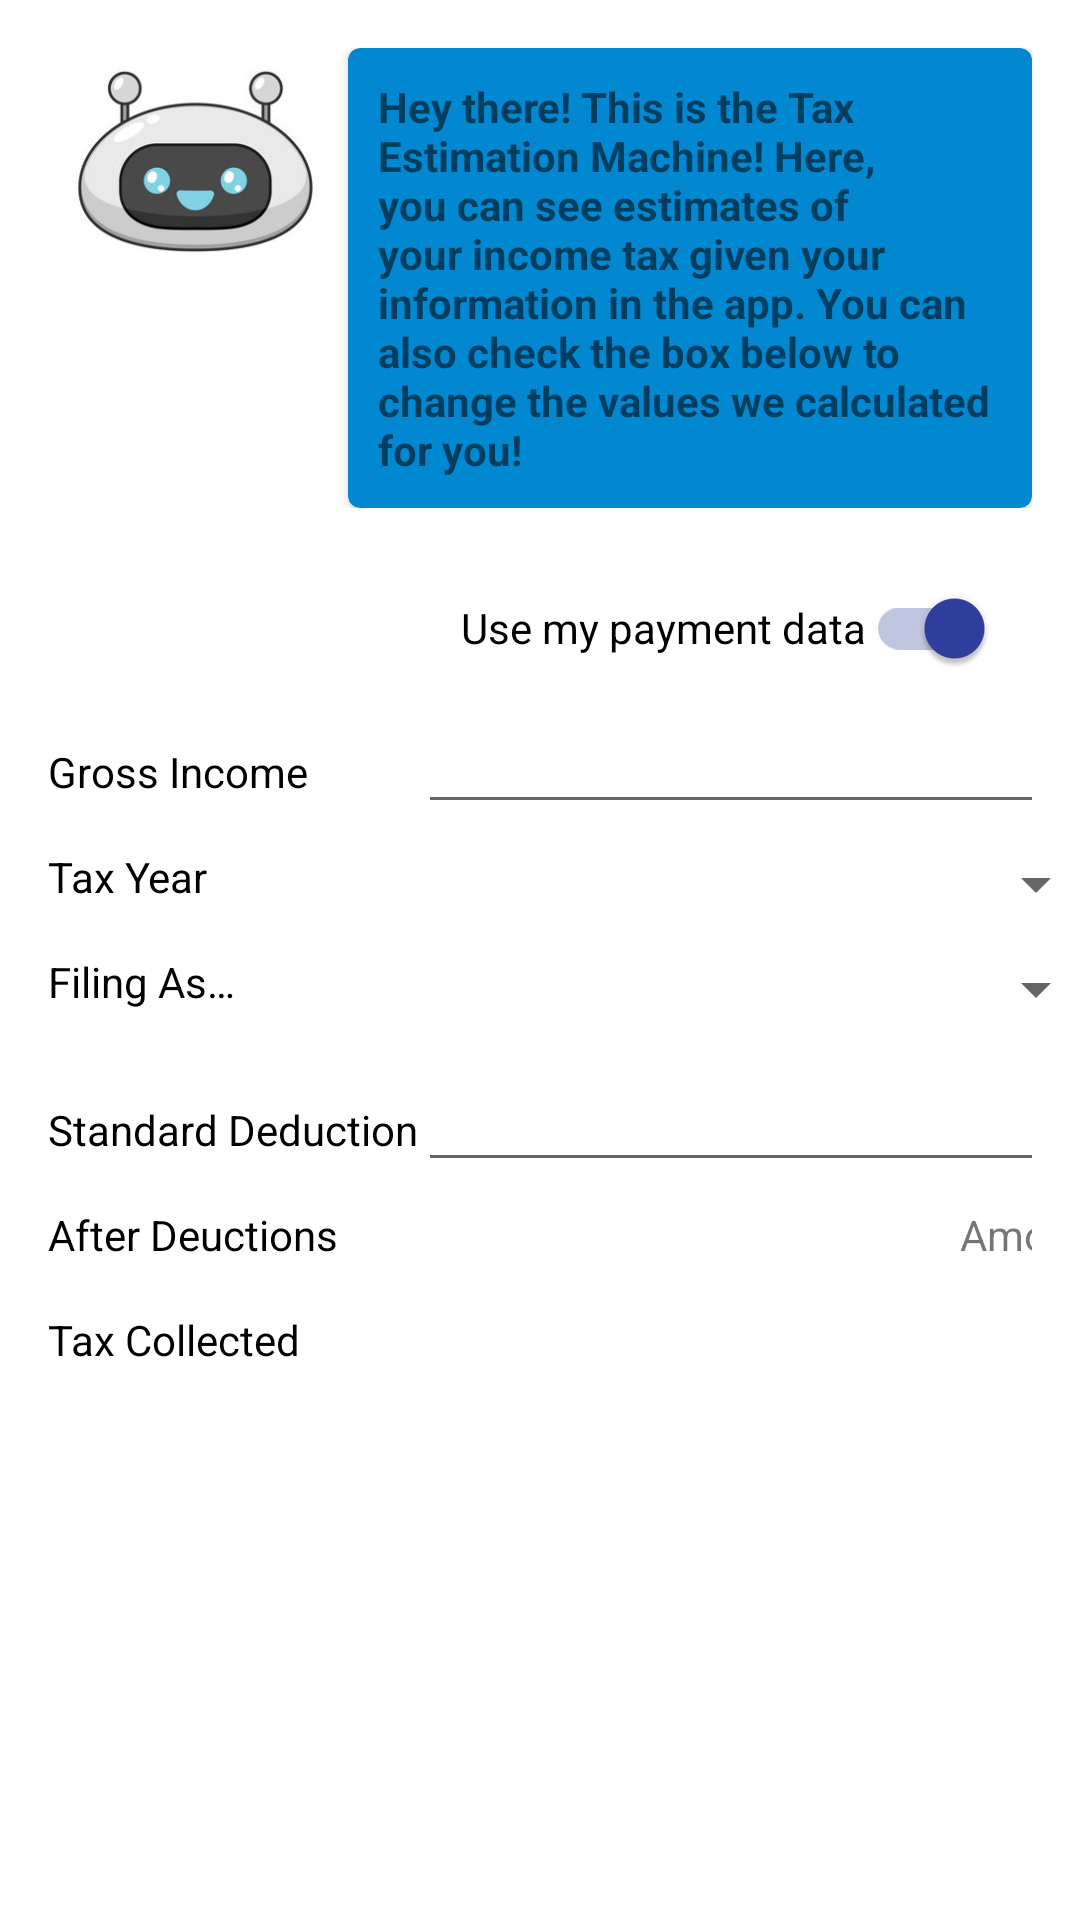

Screen size 1080 × 1920. Icon name, then its box in pixels as (x1, y1, x2, y2):
Friendly neighborhood Brobot: (78, 71, 313, 252)
